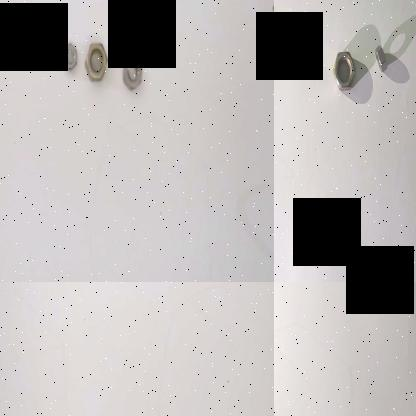NUTS: (328, 38, 360, 99), (119, 51, 147, 93), (84, 40, 110, 81), (373, 34, 393, 84), (60, 35, 80, 77)
